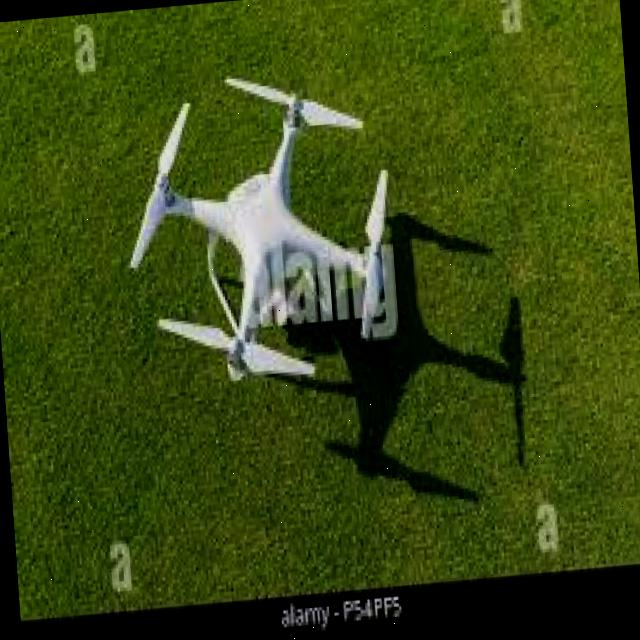drone: (103, 49, 446, 435)
